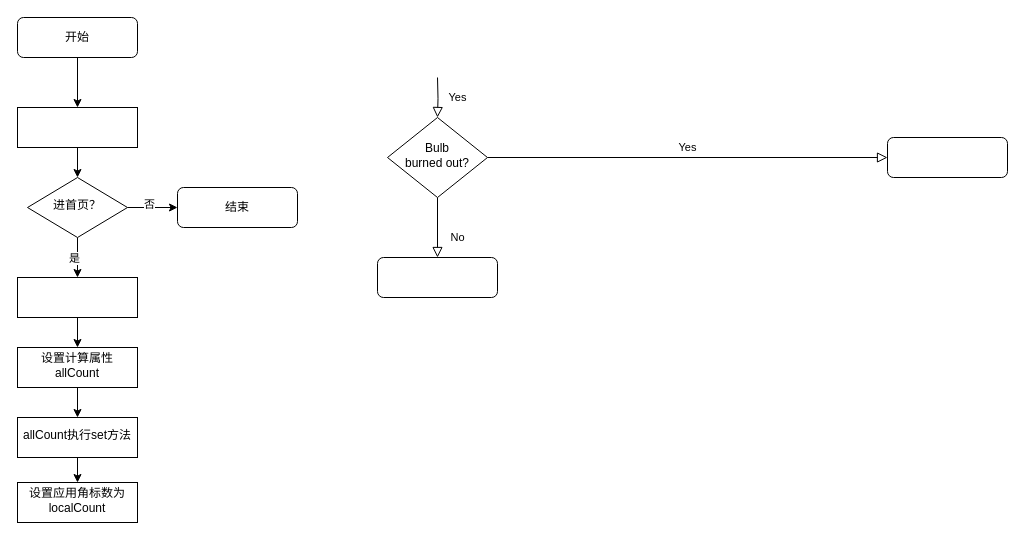
The diagram is 1025 pixels wide and 540 high, and some of its shapes have lost their labels. Here are the shapes that lost their labels. From the top down, the centre of each, then its label:
the point at 77,127: APP启动
the point at 947,157: Replace Bulb
the point at 77,297: 获取本地缓存的角标数localCount
the point at 437,277: Repair Lamp
